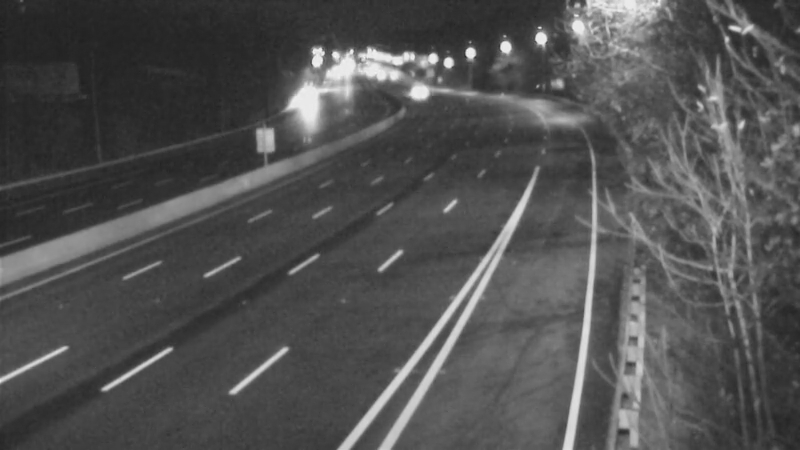vehicle: (395, 69, 445, 119)
